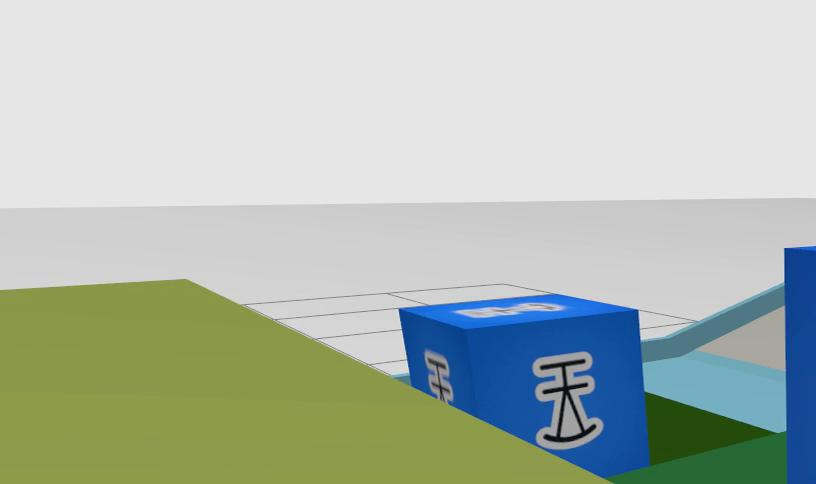KFS_REAL: (401, 294, 647, 475), (784, 249, 816, 484), (534, 352, 603, 450), (425, 351, 453, 402)
